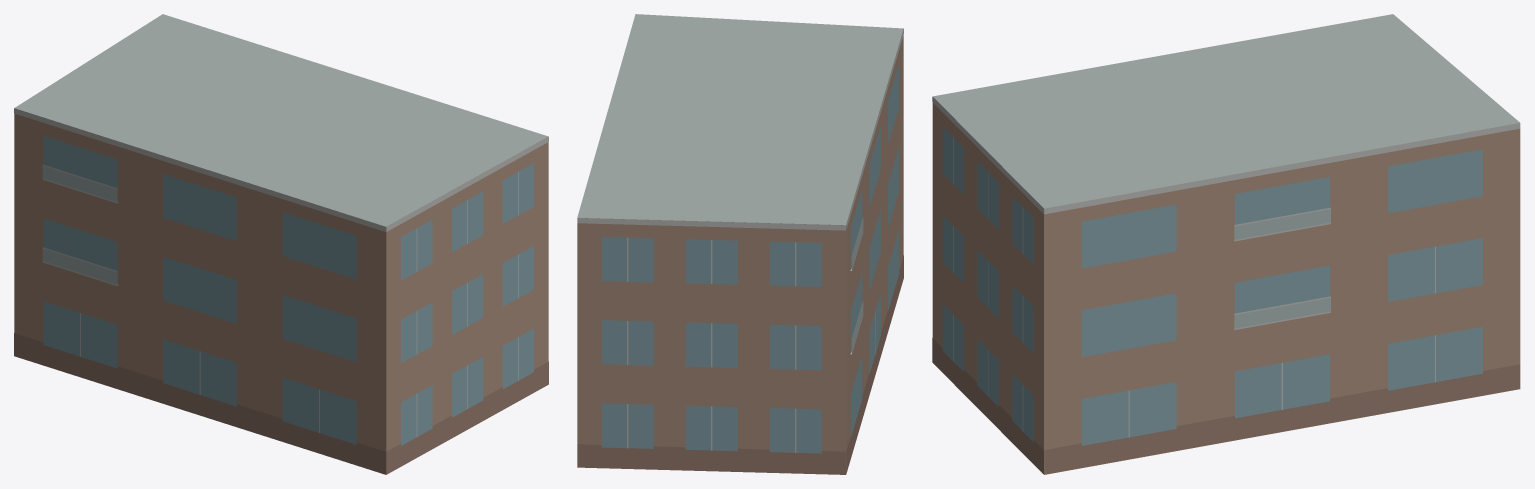
File: survey-upis-32961735.glb
3 views of the same model, side by side, from view 1: azimuth 30°, elevation 25°; view 2: azimuth 150°, elevation 25°; view 3: azimuth 270°, elevation 25° (orthographic). The views are drawn at different scales.
Parts seen in each view (by area): view 1: survey-upis-32961735.tmp; view 2: survey-upis-32961735.tmp; view 3: survey-upis-32961735.tmp.
Part boxes in pixels (left/top/right/bottom): survey-upis-32961735.tmp: left=14, top=14, right=548, bottom=474; survey-upis-32961735.tmp: left=577, top=14, right=903, bottom=474; survey-upis-32961735.tmp: left=932, top=14, right=1520, bottom=474.
Bounding box in the file's own units: 17.74 × 11.3 × 22.63.
